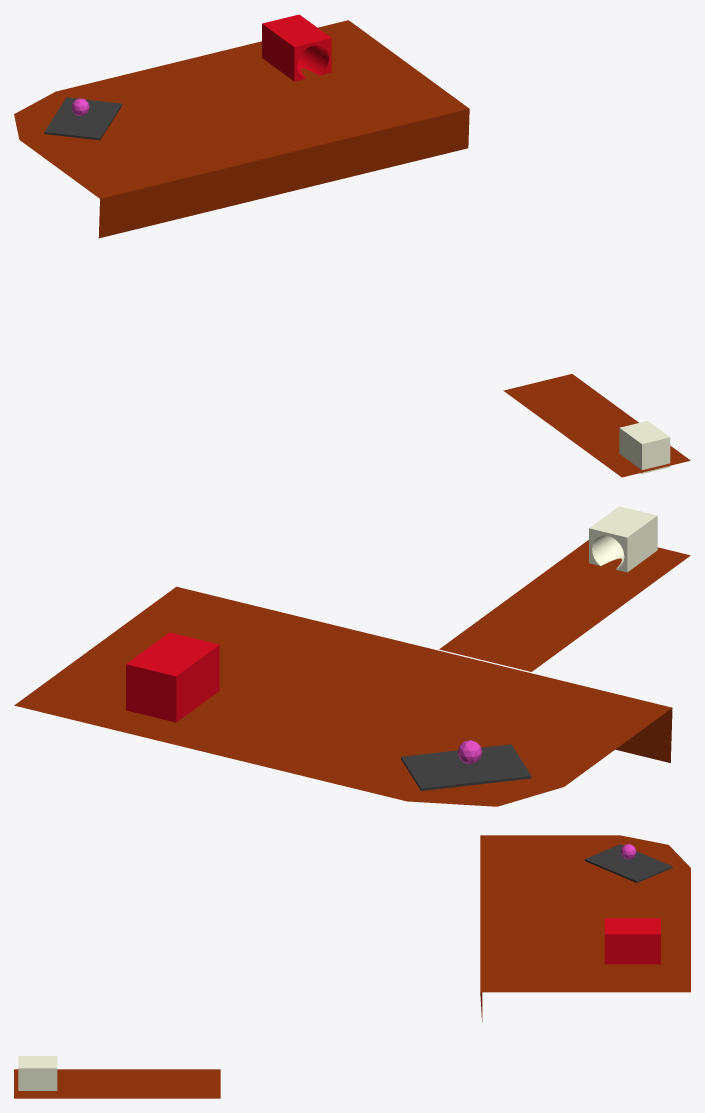
Rendered from boilerplate_level_16.glb.
3 views of the same model, one above another, from view 1: azimuth 30°, elevation 25°; view 2: azimuth 150°, elevation 25°; view 3: azimuth 270°, elevation 25° (orthographic). The views are drawn at different scales.
Parts seen in each view (by area): view 1: Plane, Cannon, Cup, Start; view 2: Plane, Cannon, Start, Cup, Ball; view 3: Plane, Cannon, Start, Cup.
Part boxes in pixels (<box>): Plane: <box>14,20,690,477</box>; Cannon: <box>262,14,331,81</box>; Cup: <box>619,421,670,473</box>; Start: <box>44,97,122,140</box>; Plane: <box>14,540,690,806</box>; Cannon: <box>126,632,219,722</box>; Start: <box>401,744,531,790</box>; Cup: <box>589,506,657,572</box>; Ball: <box>457,740,481,764</box>; Plane: <box>14,835,690,1098</box>; Cannon: <box>604,918,660,964</box>; Start: <box>584,844,672,882</box>; Cup: <box>18,1056,57,1090</box>.
Size of the model in its own units: 39.54 by 18.68 by 72.05.
